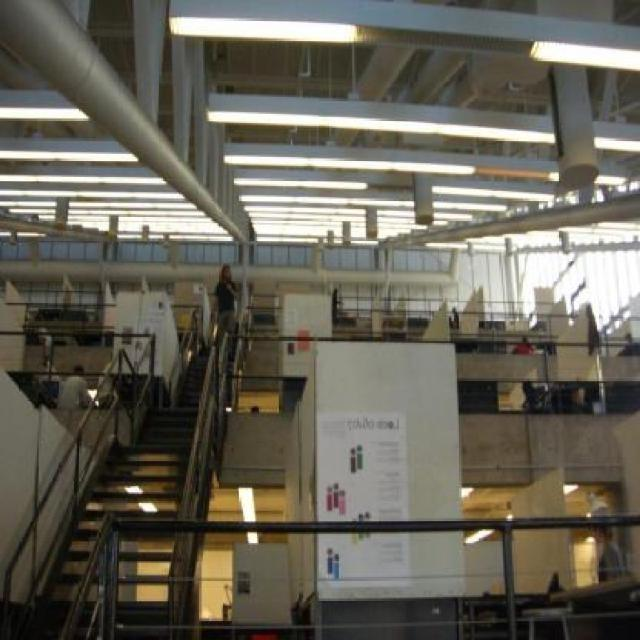stair: (17, 340, 225, 640)
